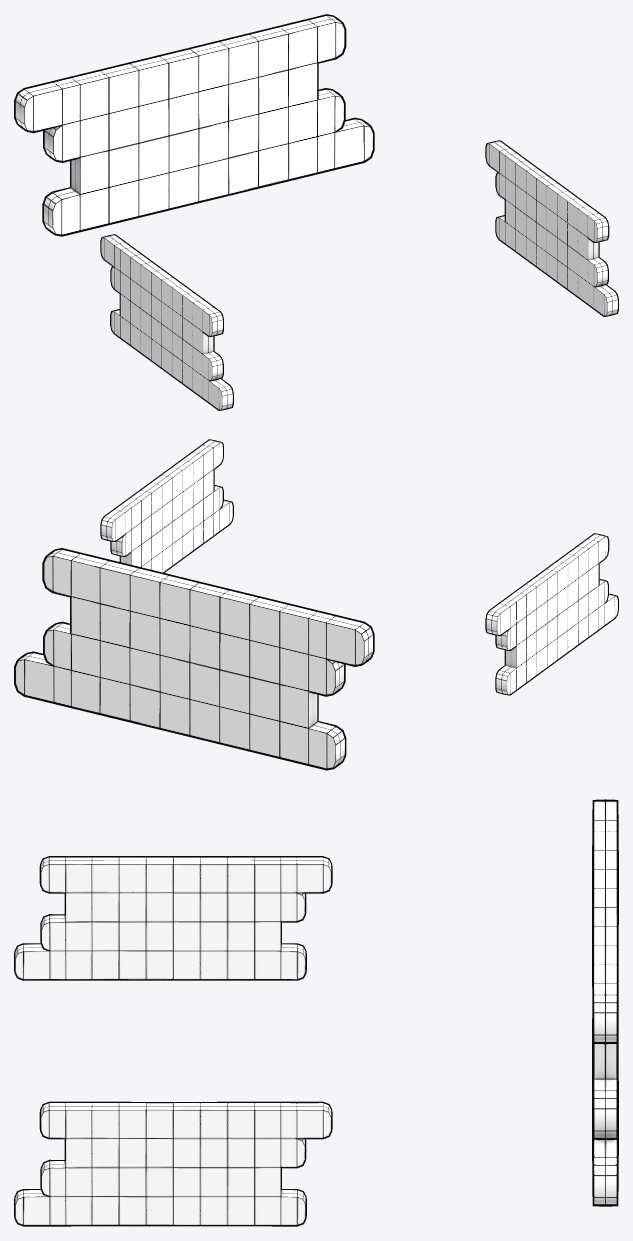
Rendered from obj_sign.gltf.
3 renders of one model, top to bottom at view 1: azimuth 30°, elevation 25°; view 2: azimuth 150°, elevation 25°; view 3: azimuth 270°, elevation 25°, orthographic. The views are drawn at different scales.
Parts seen in each view (by area): view 1: obj_sign_mesh; view 2: obj_sign_mesh; view 3: obj_sign_mesh.
Part boxes in pixels (x1,y1,x2,y2): obj_sign_mesh: [14, 14, 618, 410]; obj_sign_mesh: [14, 439, 618, 770]; obj_sign_mesh: [14, 799, 618, 1226].
Size of what is drawn, in the model's own units: 15.49 by 5.55 by 15.61.
Materials: 1 (1 with a texture image).
